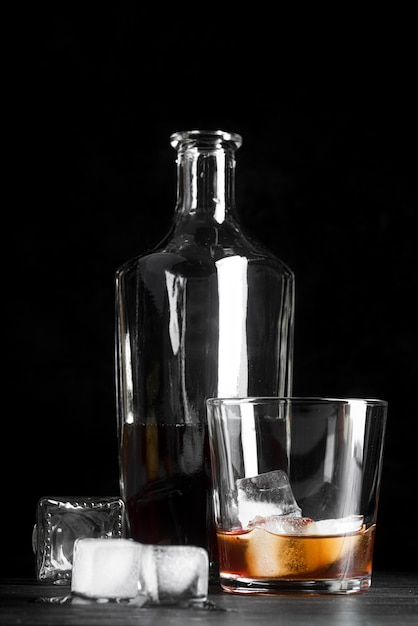alcohol: (113, 128, 299, 581), (205, 396, 388, 598)
